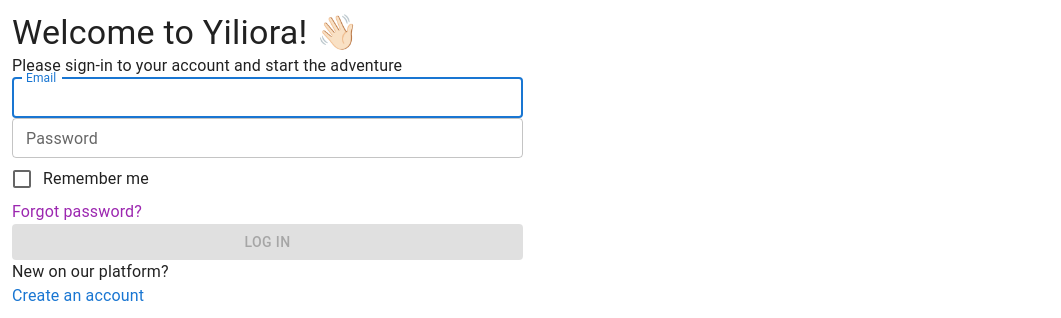
Test case: Login — alternateChannel wiring › renders the switch from the challenge response, and switching updates the displayed channel
Type "landlord@example.com" into the field labelled "Email". click: {"x": 268, "y": 98}
box: [12, 78, 523, 118]
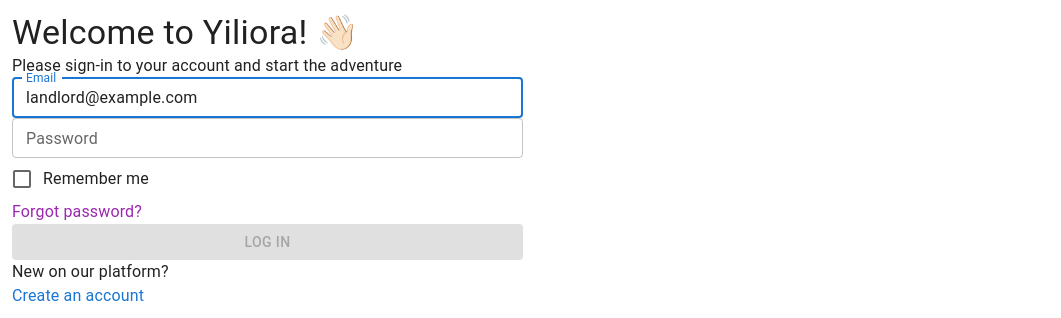
Type "correct-horse" into the password field labelled "Password". click: {"x": 253, "y": 138}
box: [12, 118, 494, 158]
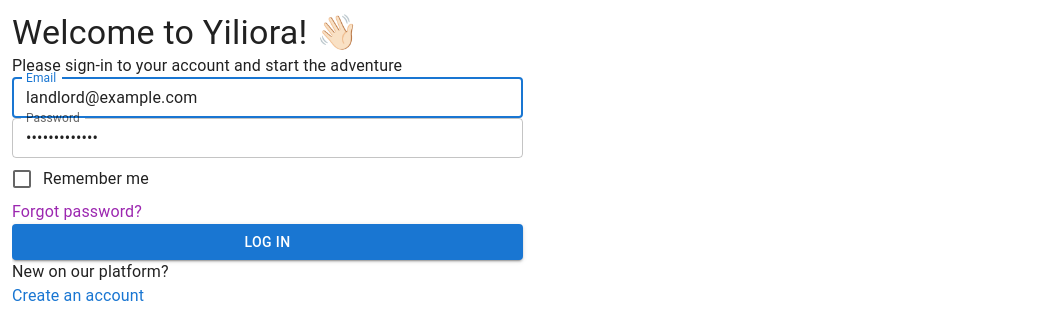
Click the button "Log In". click: {"x": 268, "y": 242}
box: [12, 224, 523, 260]
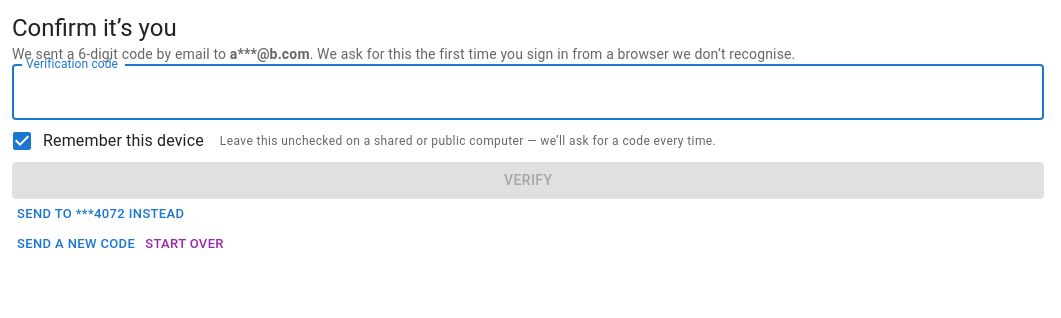
Expected: the field labelled "Verification code" is shown, [12, 64, 1044, 120]
Click the button "Send to ***4072 instead". click: {"x": 101, "y": 214}
box: [12, 198, 190, 229]
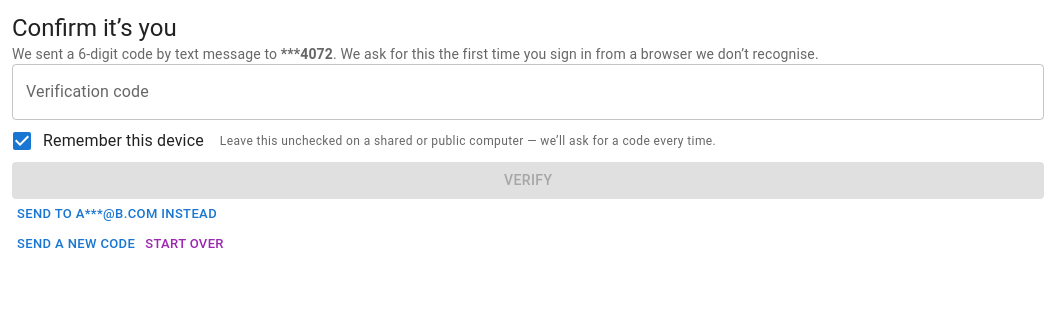
Expected: the text "text message to" is shown, [12, 46, 819, 62]
Expected: the text "***4072" is shown, [281, 46, 333, 62]
Expected: the button "Send to a***@b.com instead" is shown, [12, 198, 222, 229]
